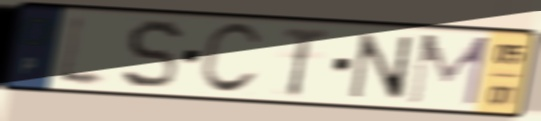C: (195, 20, 266, 98)
L: (53, 9, 113, 93)
M: (404, 31, 494, 109)
N: (347, 31, 415, 104)
S: (119, 16, 186, 92)
T: (280, 24, 333, 100)
